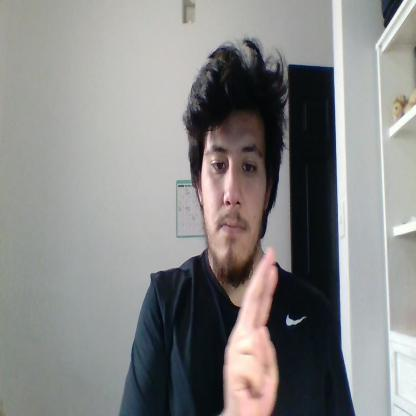R: (223, 247, 279, 415)
